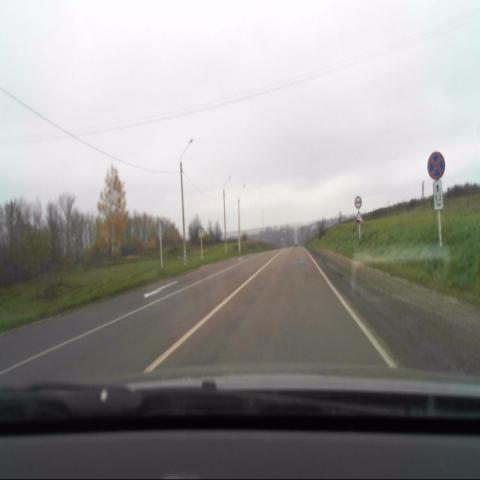8_2_2: (433, 181, 444, 211)
